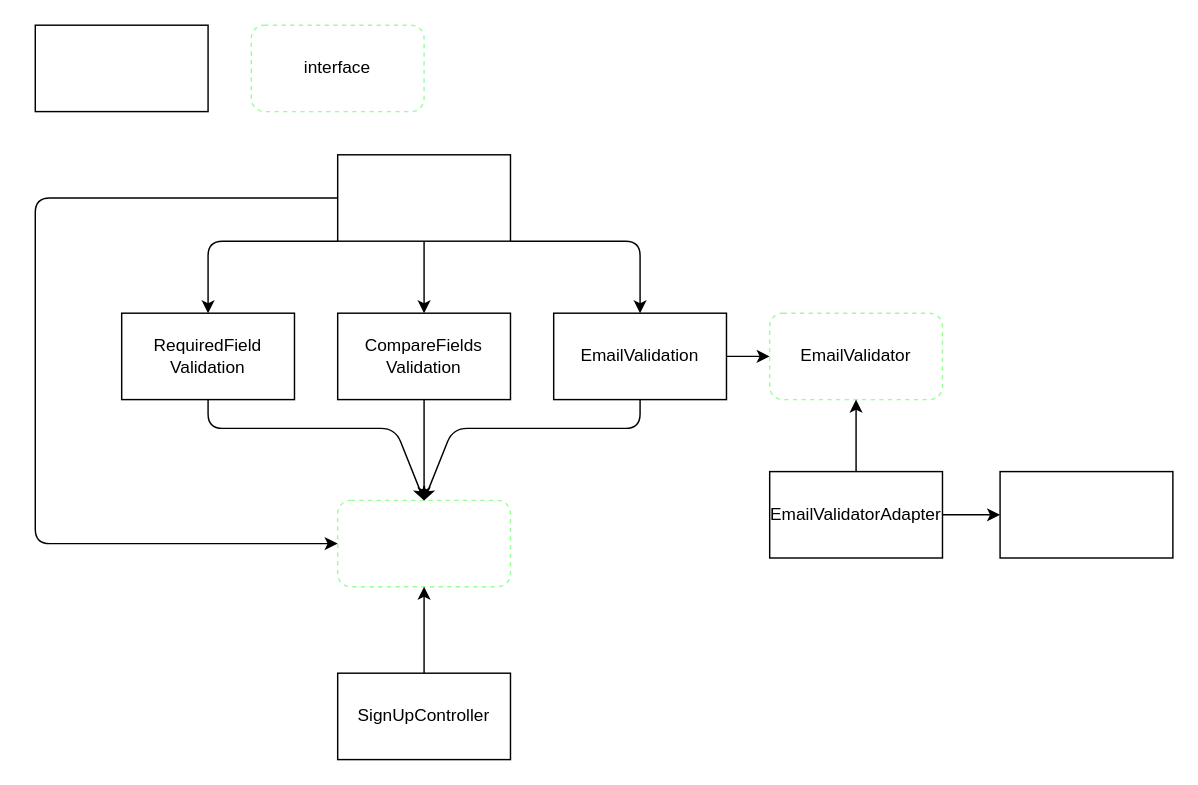
Image size: 1198x785. Some labels were removed from this diagram. Each missing label, with the centre of its shape:
"Implementation" belongs at [121,68].
"validation" belongs at [423,543].
"ValidationComposite" belongs at [423,197].
"Validator" belongs at [1086,514].
